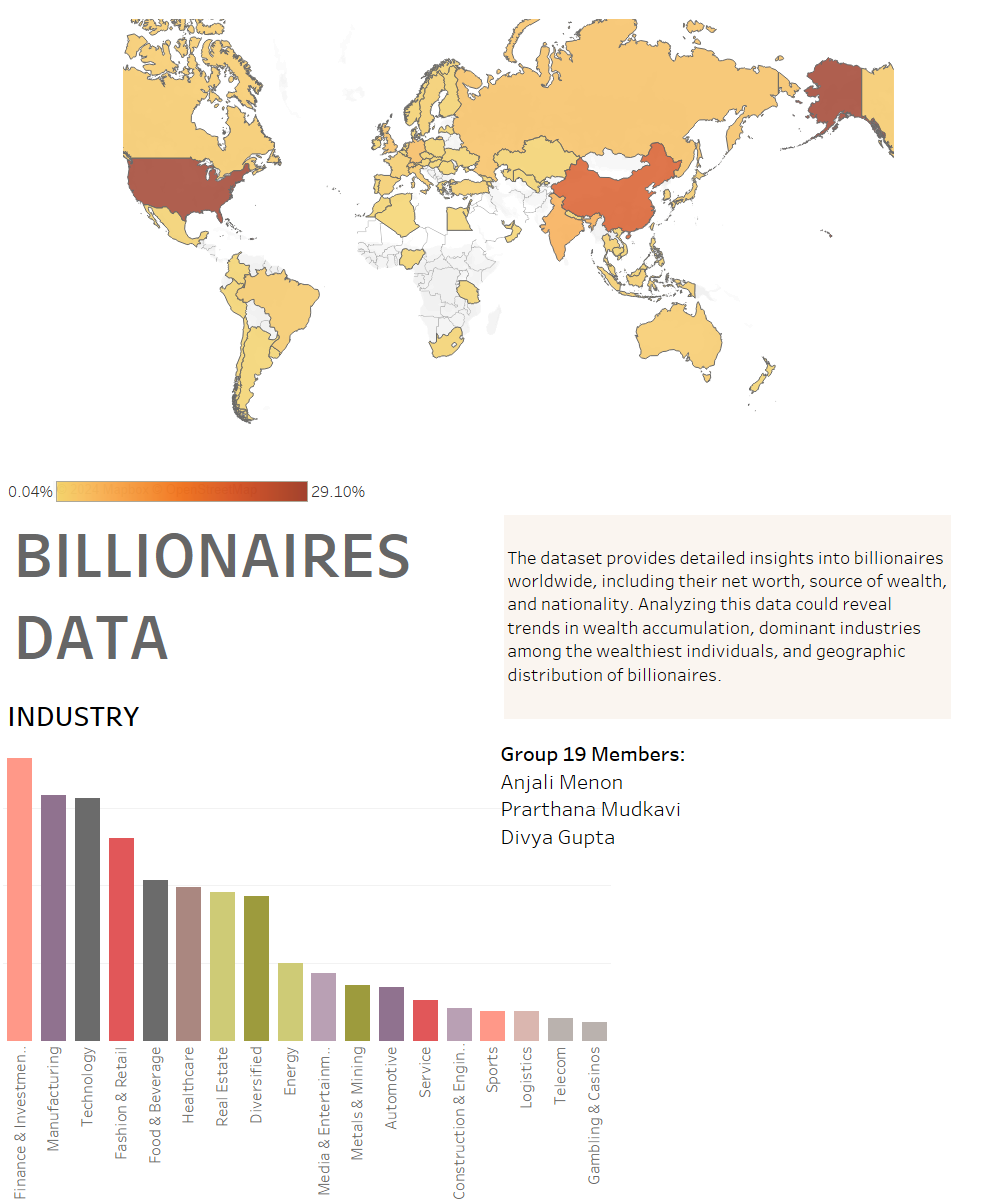

Layout of this report page (visuals, bound fields, positions):
{"tool":"tableau","page":{"name":"Dashboard 8","canvas":[1000,1000],"units":"permille","ordinal":10},"visuals":[{"type":"text","box":[11.8,17.5,919,85]},{"type":"image","param":"Image/dollar.png","box":[680.8,31,32.2,55.3]},{"type":"text","box":[14.2,109.3,285.4,49.9]},{"type":"worksheet","title":"Sheet 9","mark":"Bar","rows":["full_name","gender","industry","citizenship"],"cols":["wealth"],"box":[8.7,181.2,726.8,754.8]},{"type":"text","box":[462.3,207.7,193,39.9]},{"type":"text","box":[746.1,315.8,238.2,523.6]},{"type":"legend","title":"Sheet 9","param":"[federated.0uv03ip0i4o7ja172yx8z1t9eysb].[none:citizenship:nk]","box":[611.6,774.6,84.9,144.4]},{"type":"text","box":[14.2,944.7,564.5,41.8]}]}

Visuals, with their boxes on the dashboard's canvas, which has no fixed pixel size, in thousandths of its width and height (x1, y1, x2, y2). These are canvas units, not pixel positions in the 1000x1200 screenshot, which may show the page scaled, cropped or inside an application window:
text: (12,18,931,102)
image: (681,31,713,86)
text: (14,109,300,159)
"Sheet 9" worksheet (Bar marks): (9,181,736,936)
text: (462,208,655,248)
text: (746,316,984,839)
"Sheet 9" legend: (612,775,696,919)
text: (14,945,579,986)
